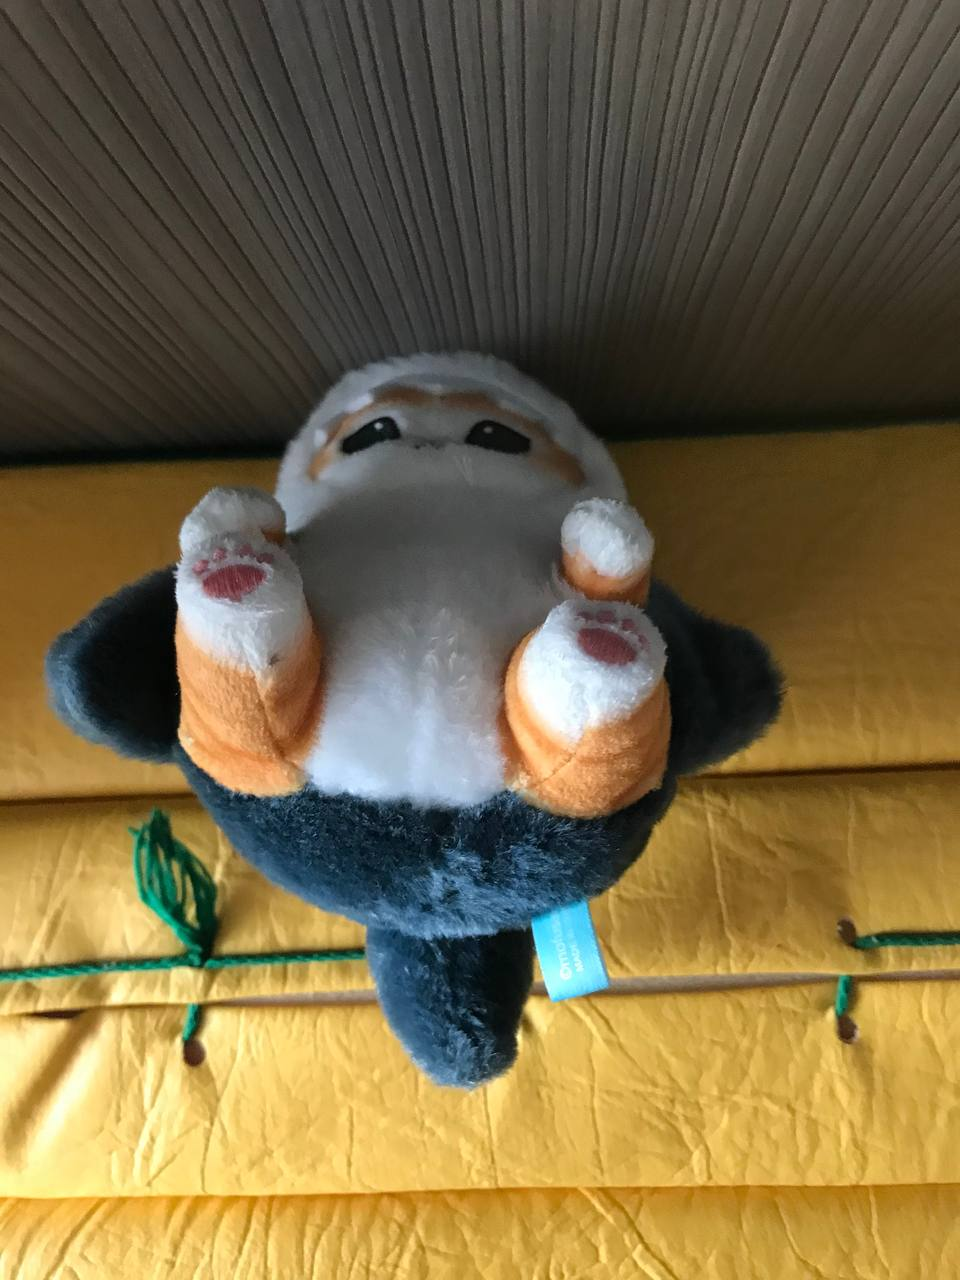cat_shark: (39, 348, 791, 1089)
